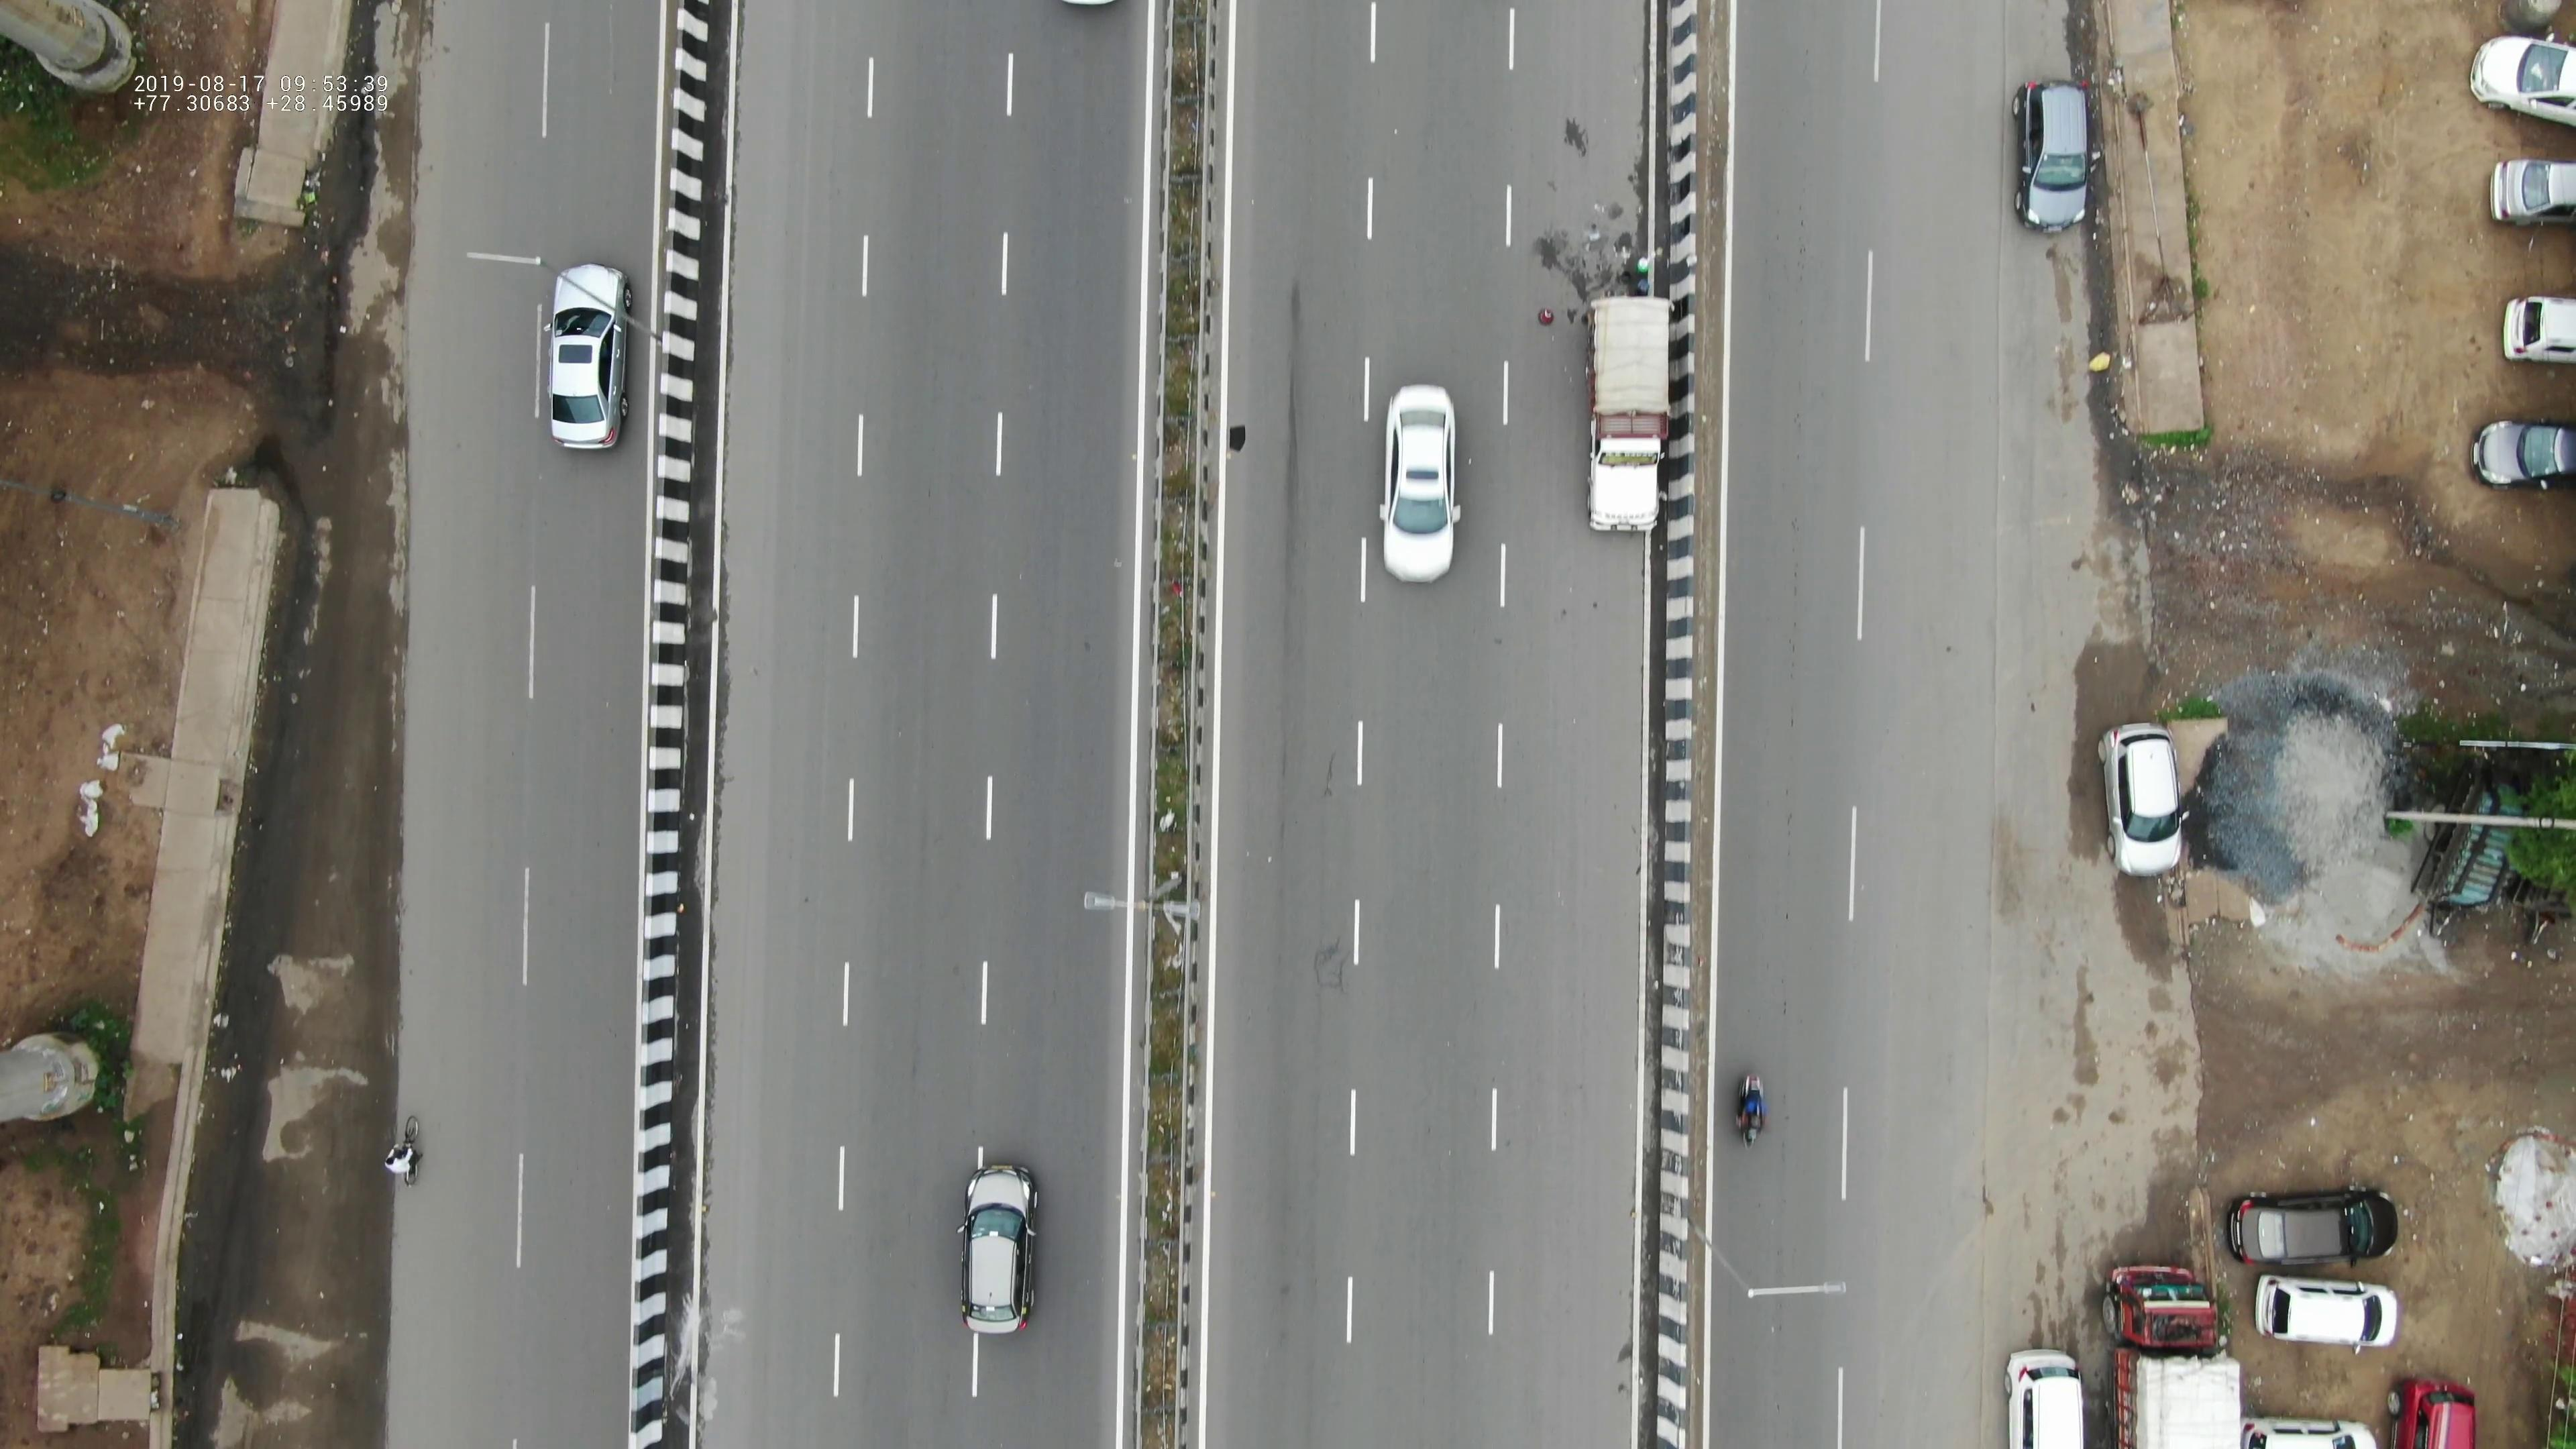Alligator_cracks: (1523, 119, 1647, 290)
Muddy_road: (304, 131, 391, 329), (2093, 455, 2166, 653)
